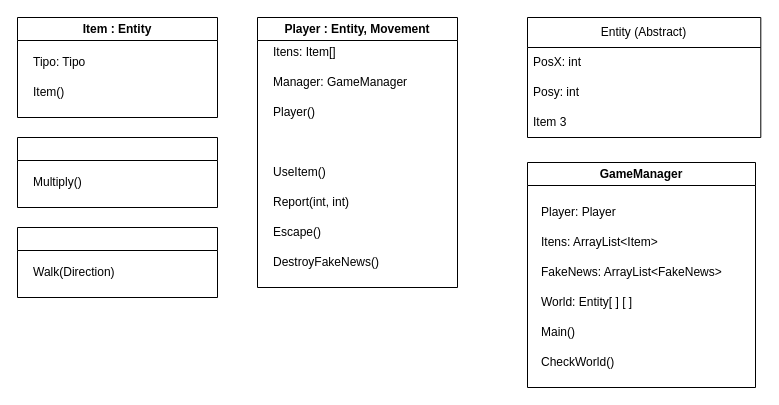
This 779x405 diagram has some shape labels left out. The shapes that lost their labels are listed below. From the top down, each one's box as (x1, y1, x2, y2) in pixels, then its label:
(16, 136, 218, 208): FakeNews : Entity, Movement
(16, 226, 218, 298): Movement
